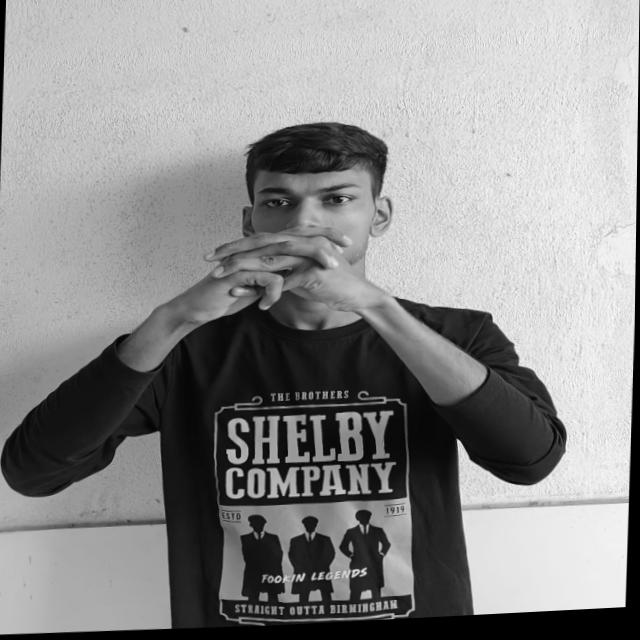Sorry: (181, 222, 368, 324)
